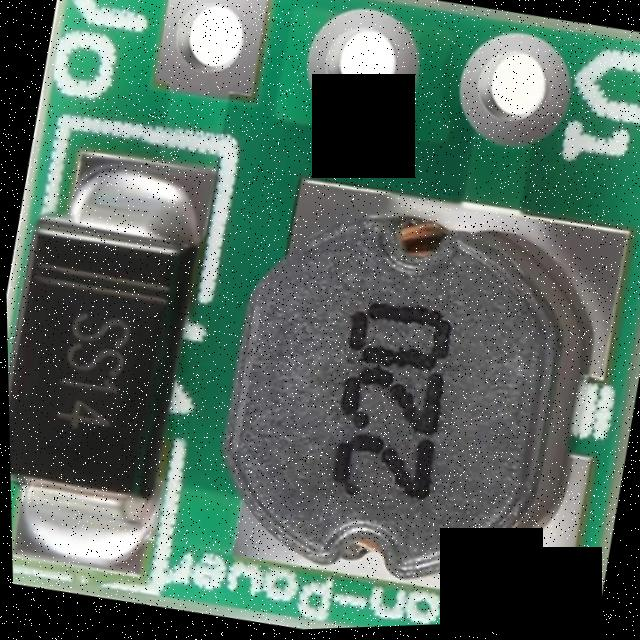diode -D1-: (3, 171, 203, 542)
inductor F1: (186, 159, 640, 629)
